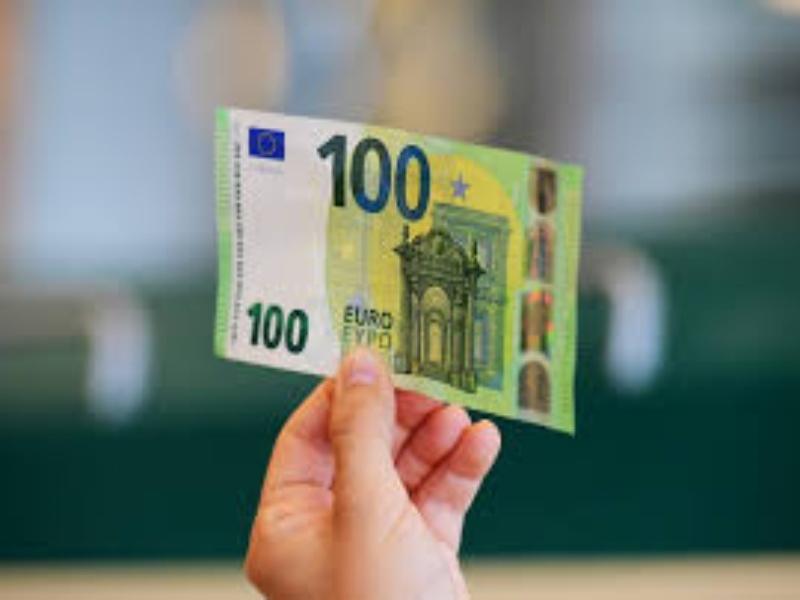cash: (215, 104, 581, 434)
